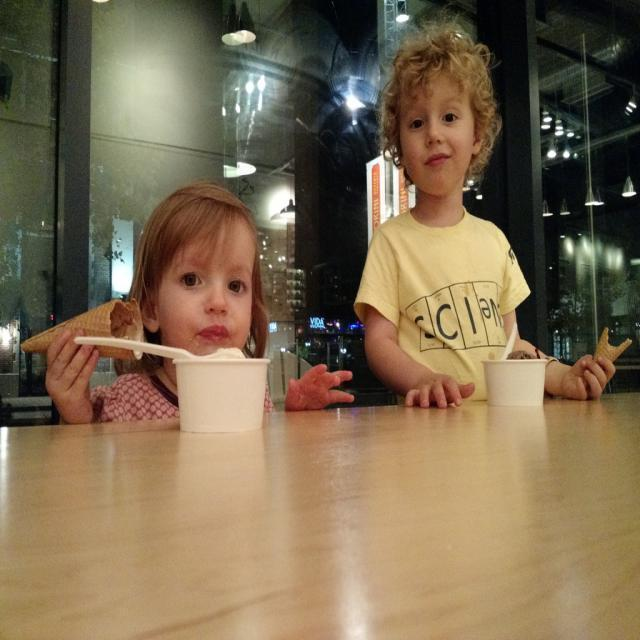closed-mouth: (196, 320, 231, 349), (421, 152, 451, 166)
